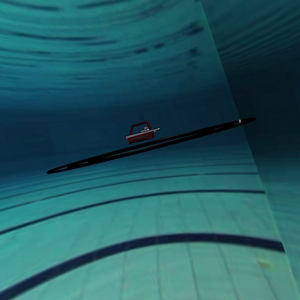circle: (38, 99, 285, 190)
submarine: (118, 114, 163, 146)
